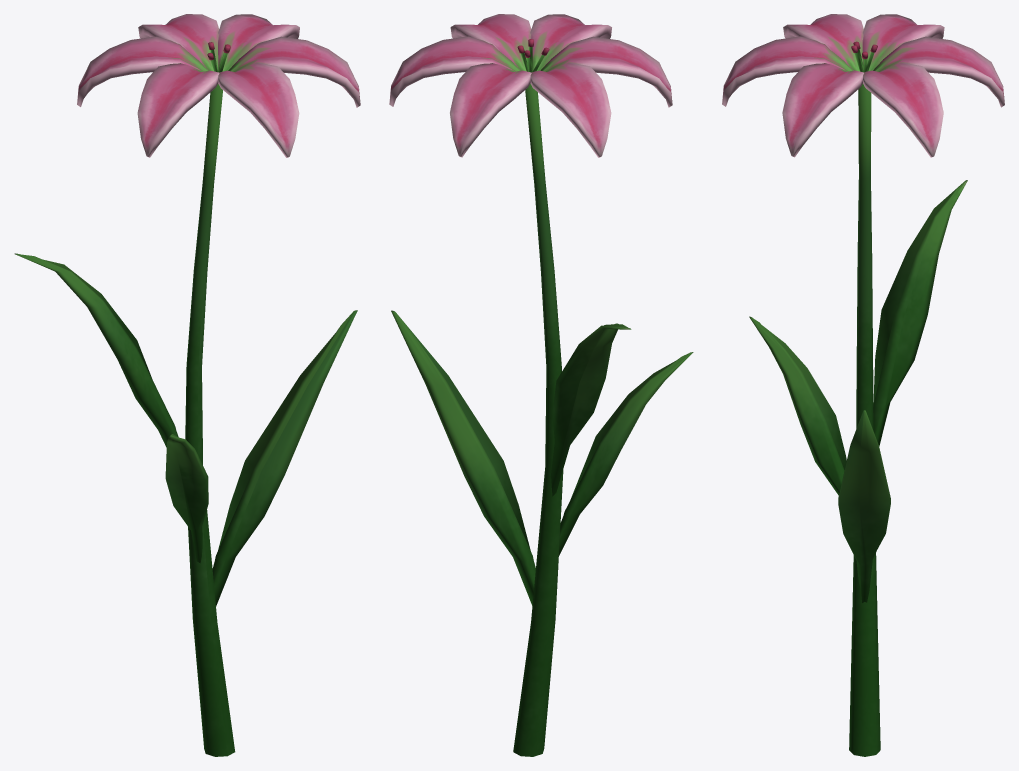
File: Lirio.fbx
3 views of the same model, side by side, from view 1: azimuth 30°, elevation 25°; view 2: azimuth 150°, elevation 25°; view 3: azimuth 270°, elevation 25° (orthographic).
Visible parts, largest first — view 1: Lirio; view 2: Lirio; view 3: Lirio.
Part boxes in pixels (x1,y1,x2,y2): Lirio: (14,14,360,756); Lirio: (389,14,693,756); Lirio: (722,14,1004,756).
Bounding box in the file's own units: 182 × 421 × 153.
